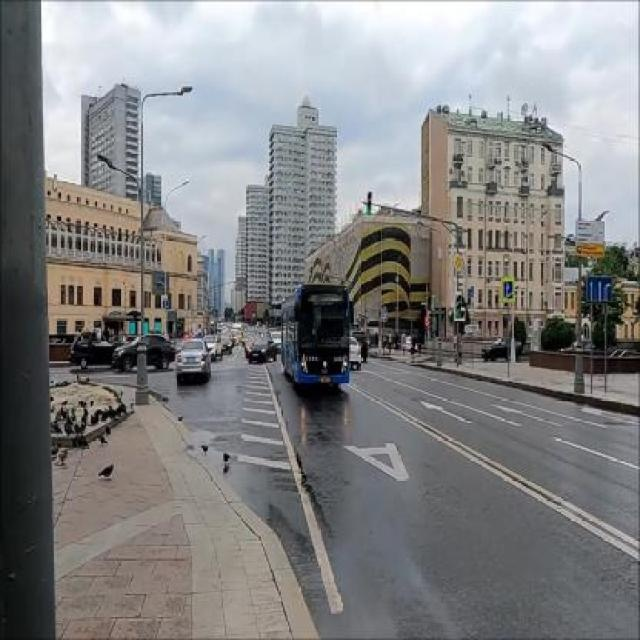Bus: (281, 282, 350, 390)
